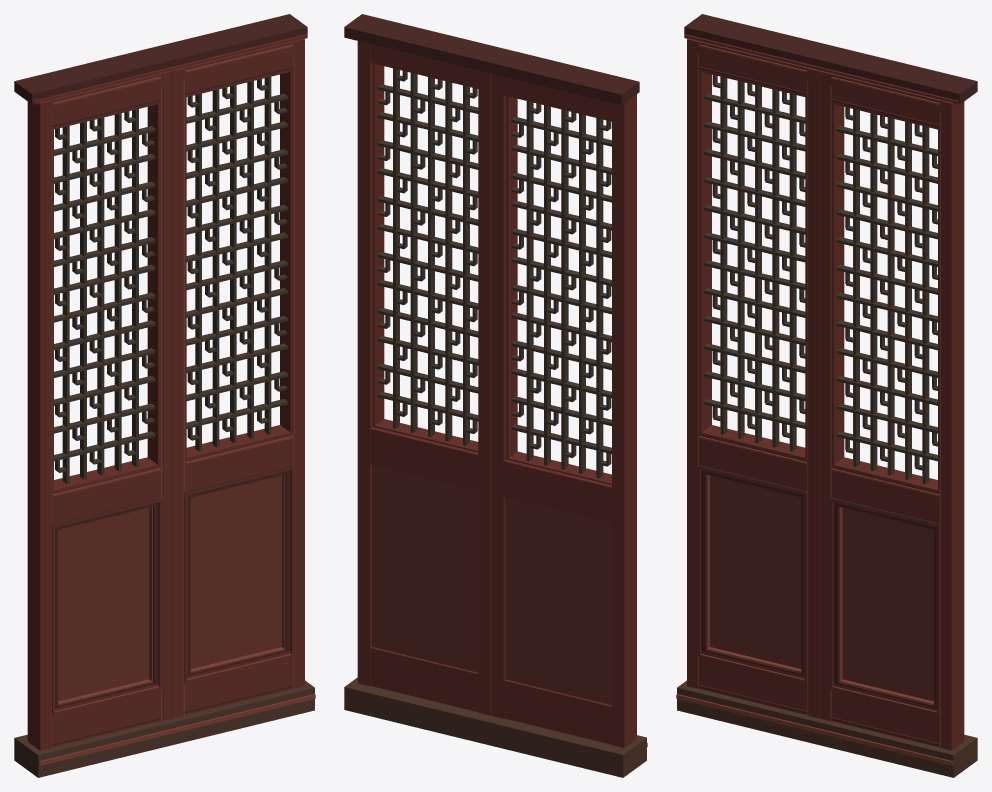
Rendered from changning-fudan-denghui-hall-lattice-doors-web.glb.
3 renders of one model, left to right at view 1: azimuth 30°, elevation 25°; view 2: azimuth 150°, elevation 25°; view 3: azimuth 330°, elevation 25°, orthographic.
Visible parts, largest first — view 1: 复旦公学登辉堂正厅朱漆格扇; view 2: 复旦公学登辉堂正厅朱漆格扇; view 3: 复旦公学登辉堂正厅朱漆格扇.
Boxes of the visible parts, x1=… form: 复旦公学登辉堂正厅朱漆格扇: x1=14, y1=14, x2=315, y2=777; 复旦公学登辉堂正厅朱漆格扇: x1=344, y1=14, x2=647, y2=777; 复旦公学登辉堂正厅朱漆格扇: x1=676, y1=14, x2=977, y2=777.
Size of the model in its own units: 1.22 by 2.87 by 0.196.
